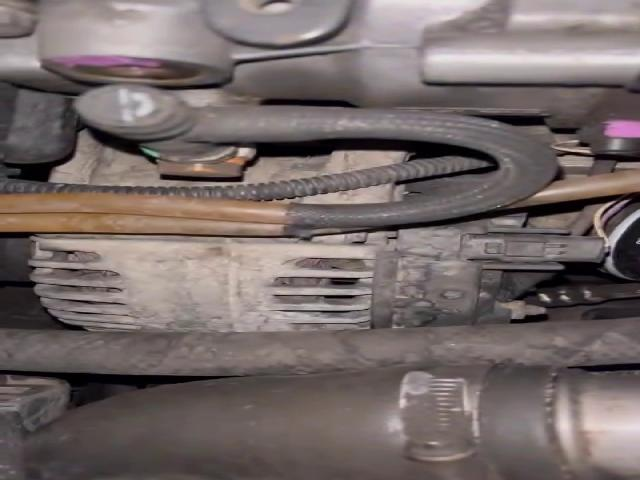alternator: (31, 203, 608, 331)
high_pressure_pump: (1, 0, 638, 158)
